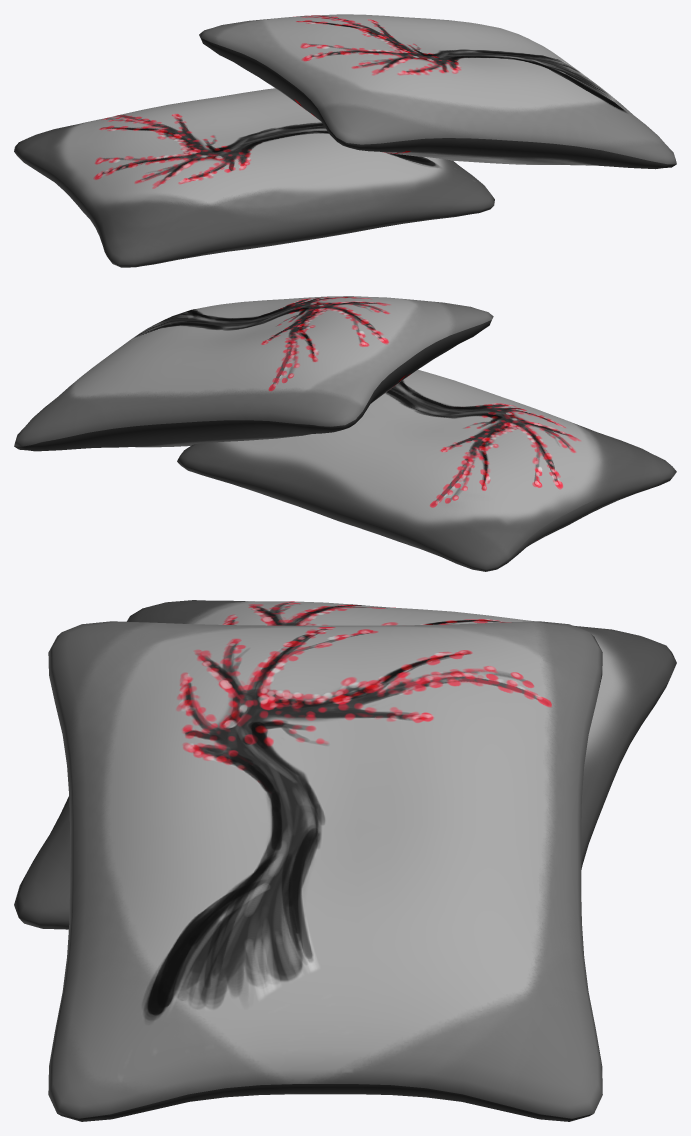
Rendered from Pillows Turning.FBX.
The picture shows the model from 3 angles, top to bottom: view 1: azimuth 30°, elevation 25°; view 2: azimuth 150°, elevation 25°; view 3: azimuth 270°, elevation 25°; orthographic projection. The views are drawn at different scales.
Parts seen in each view (by area): view 1: Pillow 1, Pillow 002; view 2: Pillow 1, Pillow 002; view 3: Pillow 002, Pillow 1.
Part boxes in pixels (x1,y1,x2,y2): Pillow 1: (14, 88, 494, 267); Pillow 002: (199, 14, 676, 169); Pillow 1: (177, 369, 676, 571); Pillow 002: (14, 296, 493, 451); Pillow 002: (48, 621, 602, 1121); Pillow 1: (14, 600, 676, 929).
Bounding box in the file's own units: 66.15 × 16.1 × 38.55.
